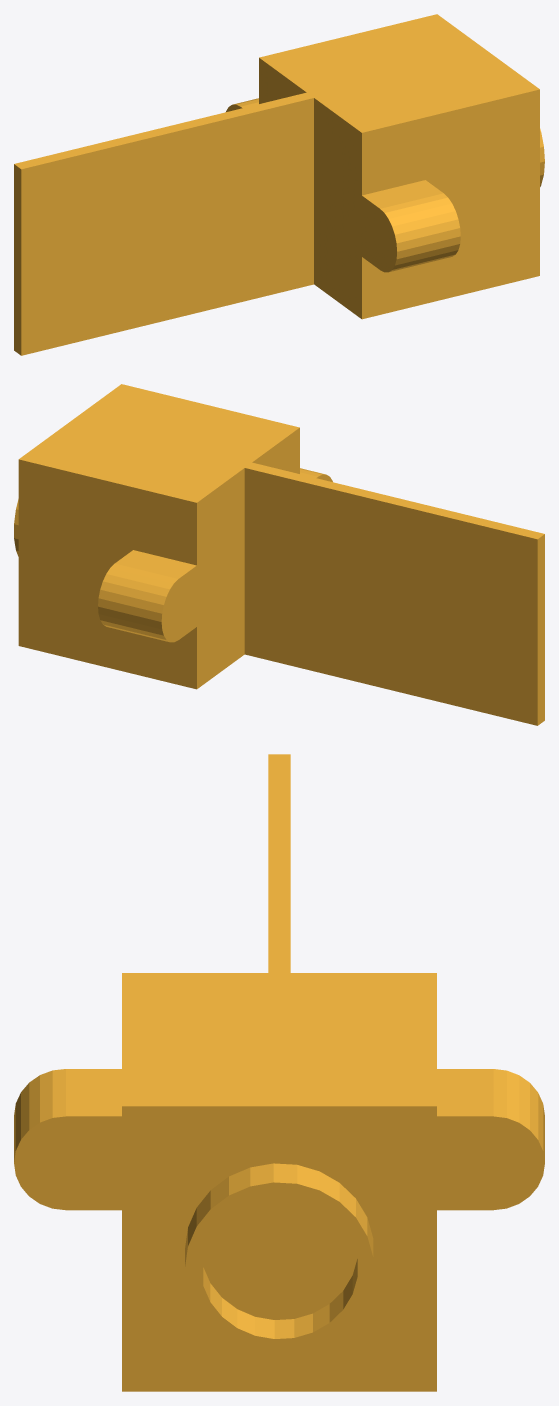
The model's file is Lifecam.dae.
3 views of the same model, one above another, from view 1: azimuth 30°, elevation 25°; view 2: azimuth 150°, elevation 25°; view 3: azimuth 270°, elevation 25° (orthographic). The views are drawn at different scales.
Visible parts, largest first — view 1: lifecam; view 2: lifecam; view 3: lifecam.
Part boxes in pixels (bbox=[...]): lifecam: bbox=[14, 14, 544, 355]; lifecam: bbox=[14, 384, 544, 725]; lifecam: bbox=[14, 754, 544, 1391].
Size of the model in its own units: 0.039 by 0.0236 by 0.014.
